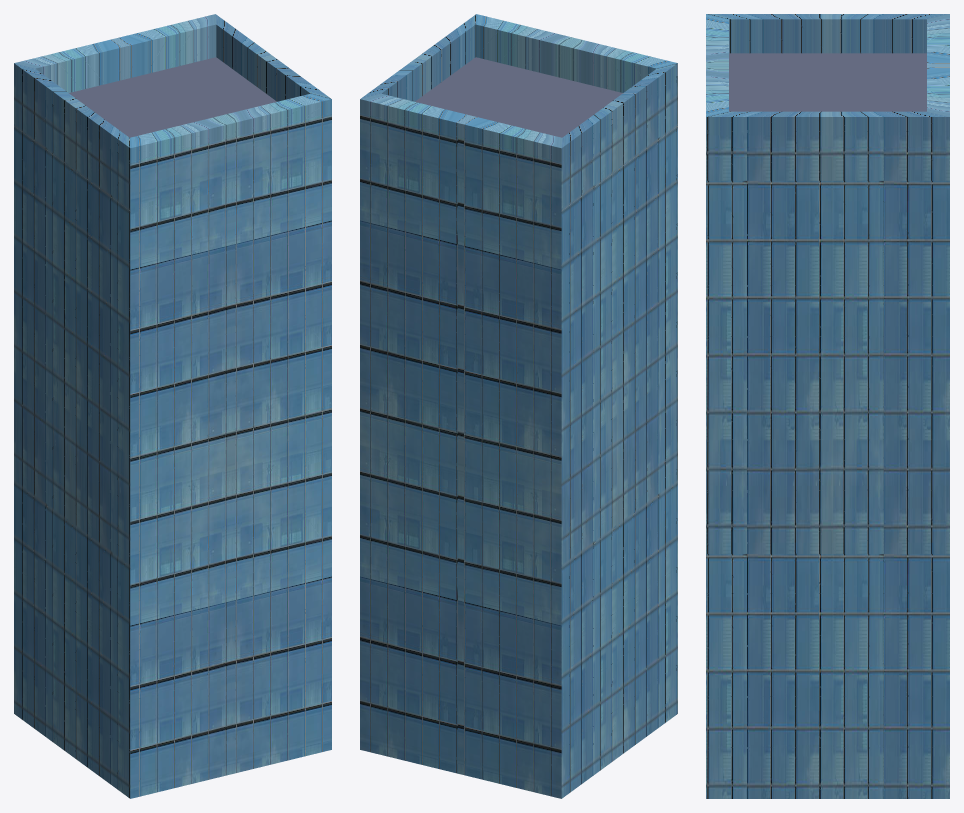
File: Buildings.fbx
3 renders of one model, left to right at view 1: azimuth 30°, elevation 25°; view 2: azimuth 150°, elevation 25°; view 3: azimuth 270°, elevation 25°, orthographic. The views are drawn at different scales.
Visible parts, largest first — view 1: Cube; view 2: Cube; view 3: Cube.
Boxes of the visible parts, <box> form: Cube: <box>14,14,331,798</box>; Cube: <box>360,14,677,798</box>; Cube: <box>706,14,949,798</box>.
Size of the model in its own units: 200 by 617 by 200.
